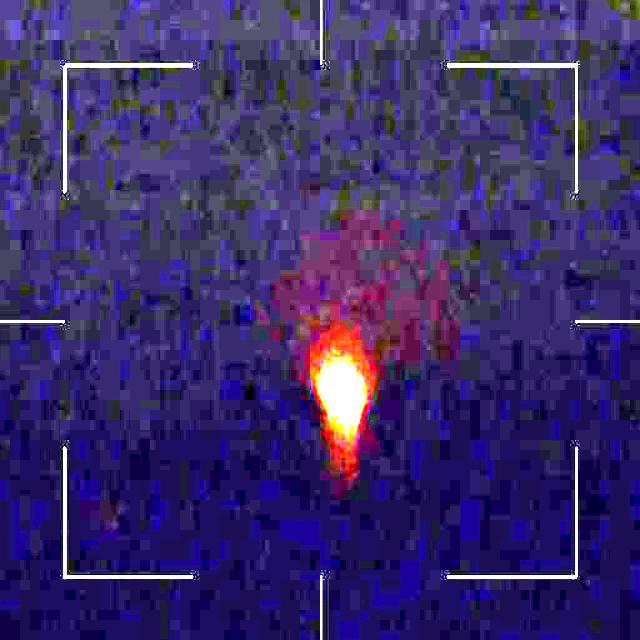bird: (316, 355, 364, 429)
